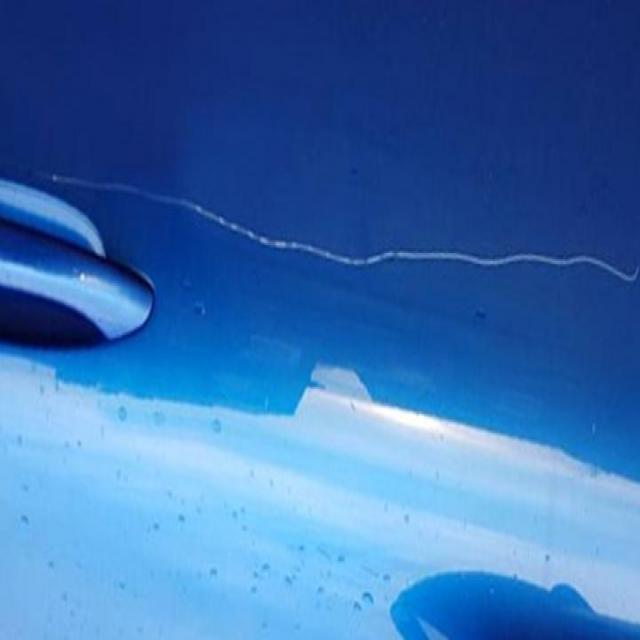scratch: (45, 148, 640, 360)
